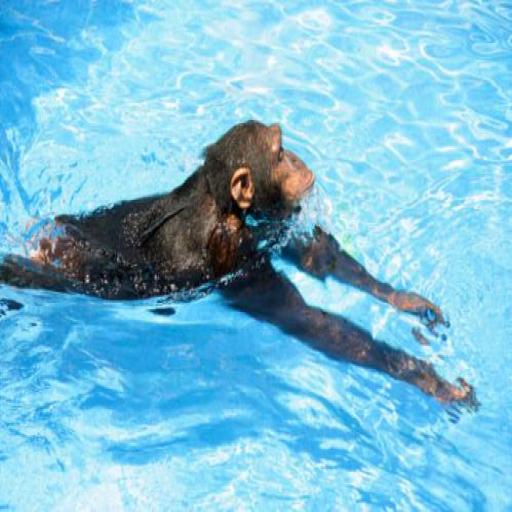swimming: (0, 115, 480, 417)
